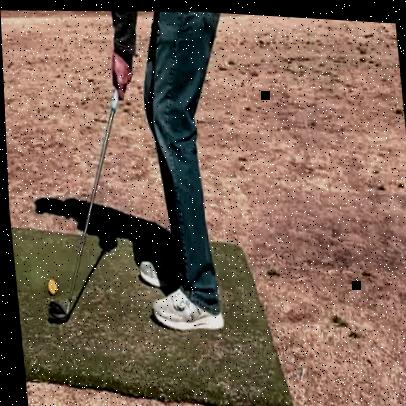ClubHead: (45, 278, 56, 295)
GolfBall: (44, 297, 71, 323)
